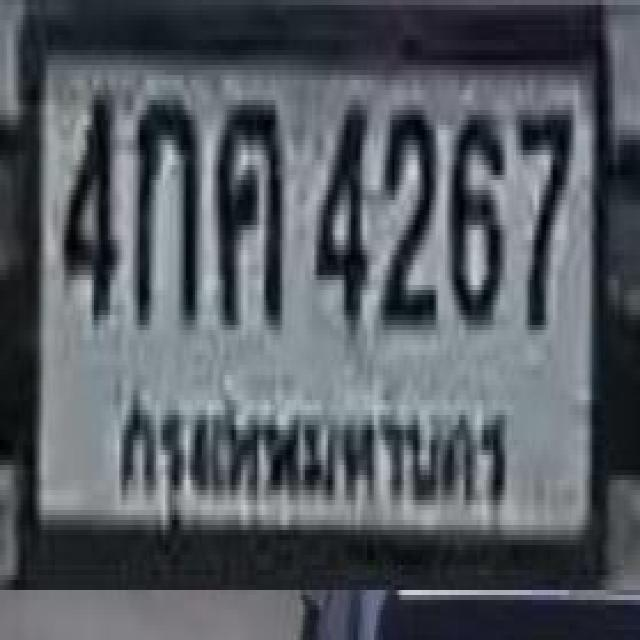license_plate: (21, 0, 612, 589)
